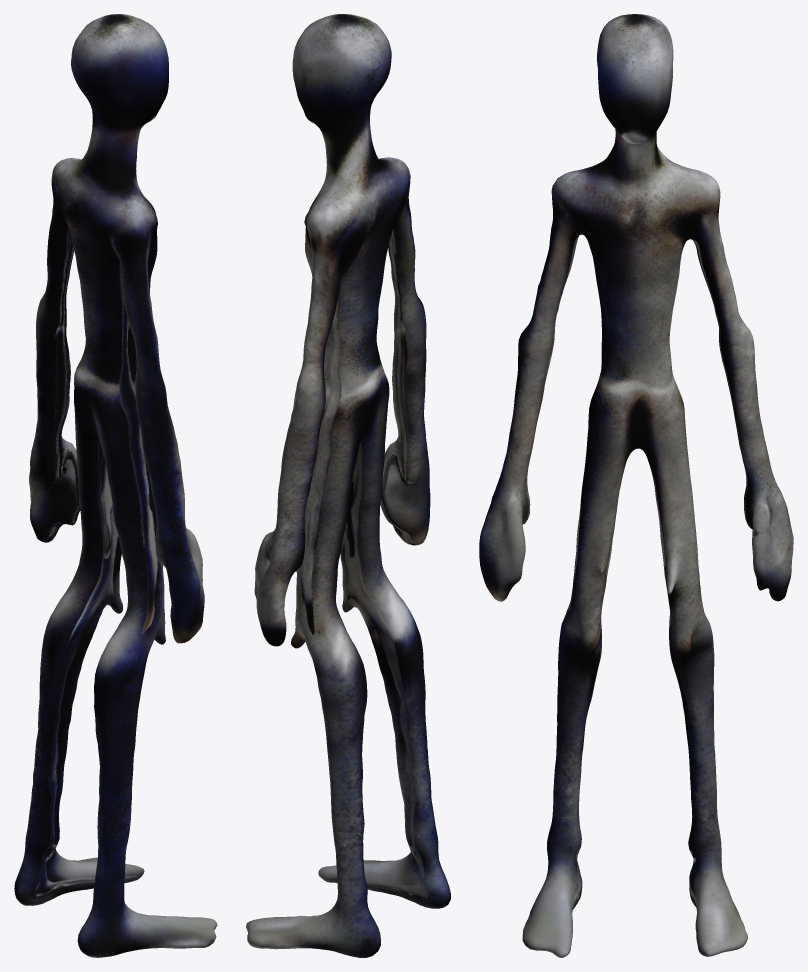
The model's file is b2cd13f12e30_A_tall_skinny_human.obj.
3 renders of one model, left to right at view 1: azimuth 30°, elevation 25°; view 2: azimuth 150°, elevation 25°; view 3: azimuth 270°, elevation 25°, orthographic.
Visible parts, largest first — view 1: mesh; view 2: mesh; view 3: mesh.
Boxes of the visible parts, x1=… form: mesh: x1=14, y1=14, x2=217, y2=957; mesh: x1=246, y1=14, x2=450, y2=957; mesh: x1=479, y1=14, x2=793, y2=957.
Size of the model in its own units: 0.1548 by 0.9995 by 0.3124.
Materials: 1 (1 with a texture image).
